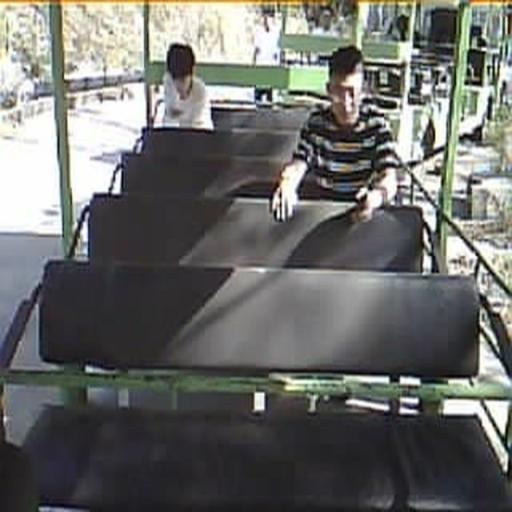persona: (269, 44, 401, 223), (159, 42, 215, 131)
